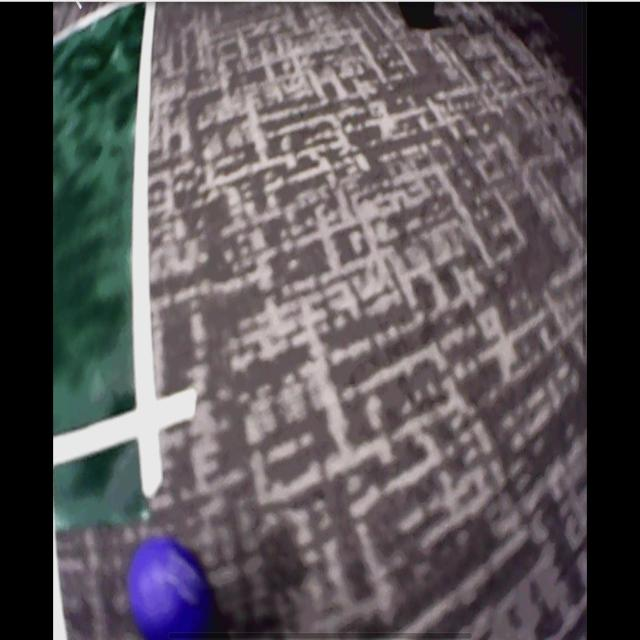ball: (130, 538, 209, 640)
